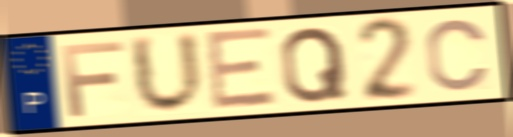2: (355, 13, 420, 109)
C: (424, 16, 493, 94)
E: (202, 25, 280, 115)
F: (58, 38, 127, 119)
Q: (278, 24, 350, 106)
U: (127, 29, 208, 118)
